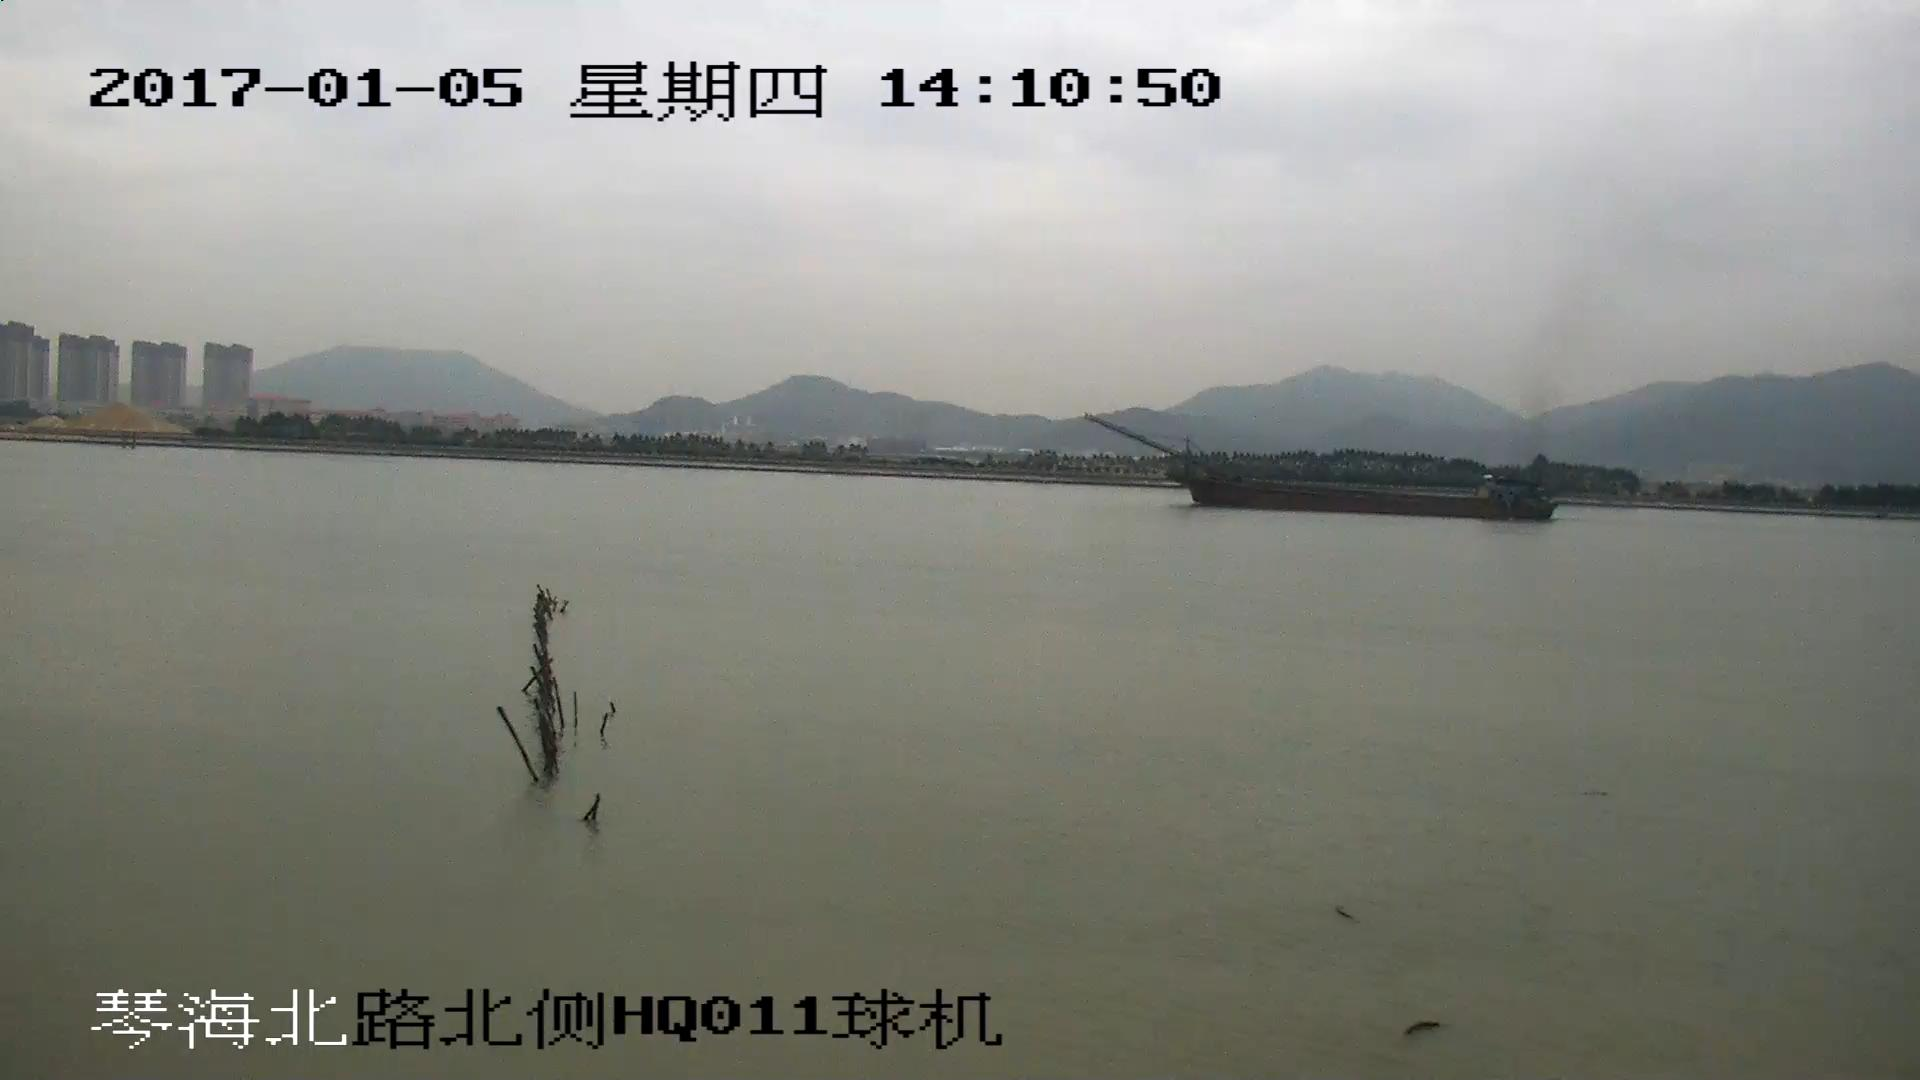bulk cargo carrier: (1085, 417, 1550, 520)
